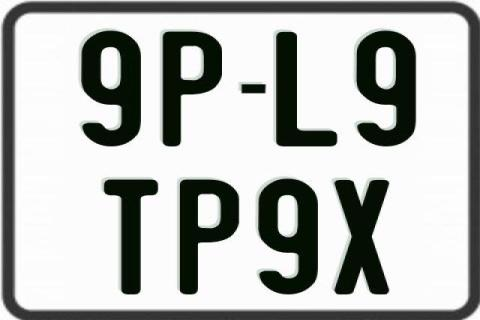0: (256, 178, 320, 298), (356, 30, 421, 146), (78, 31, 138, 151)
L: (275, 32, 337, 151)
P: (161, 29, 221, 147), (178, 178, 238, 296)
T: (102, 180, 159, 296)
X: (333, 178, 391, 296)
